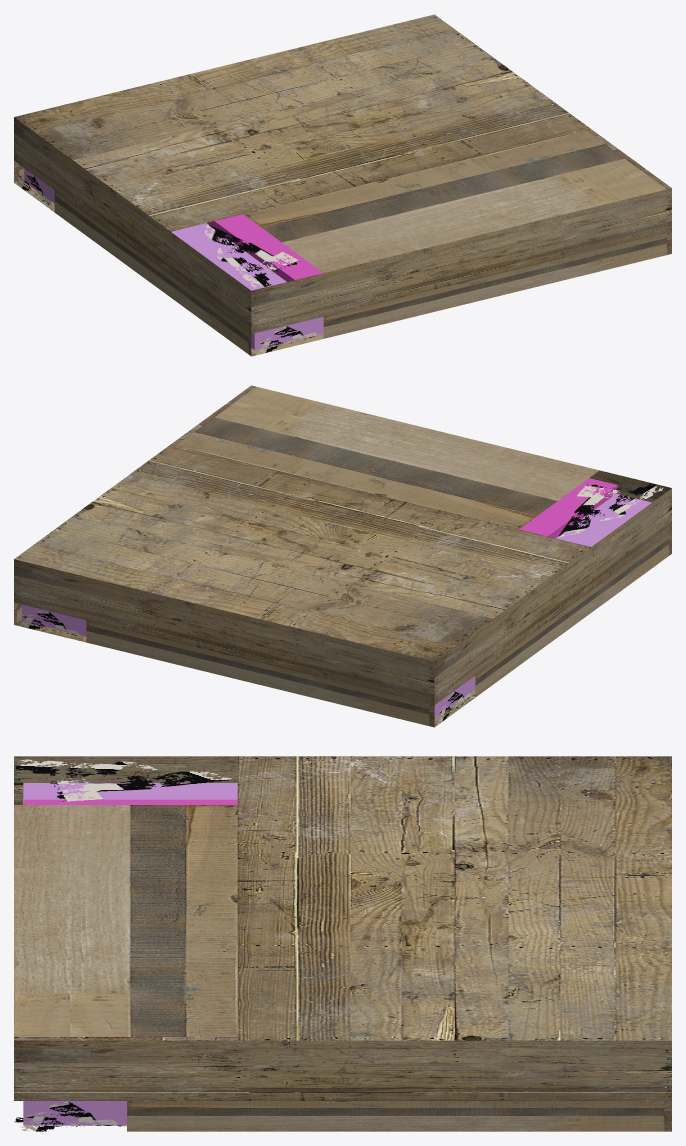
The model's file is palletsmall_broken.DAE.
The picture shows the model from 3 angles, top to bottom: view 1: azimuth 30°, elevation 25°; view 2: azimuth 150°, elevation 25°; view 3: azimuth 270°, elevation 25°; orthographic projection. The views are drawn at different scales.
Visible parts, largest first — view 1: bounds, colbox-2, colbox-3; view 2: bounds, colbox-2, colbox-3; view 3: bounds, colbox-2, colbox-3.
Part boxes in pixels (box(x1,y1,x2,y2)): bounds: box(14, 14, 671, 356); colbox-2: box(24, 168, 323, 349); colbox-3: box(207, 214, 322, 281); bounds: box(14, 385, 671, 727); colbox-2: box(22, 494, 651, 718); colbox-3: box(519, 478, 617, 538); bounds: box(14, 756, 671, 1131); colbox-2: box(23, 783, 237, 1125); colbox-3: box(24, 799, 237, 804).
Bounding box in the file's own units: 1.85 × 1.81 × 0.2762.
